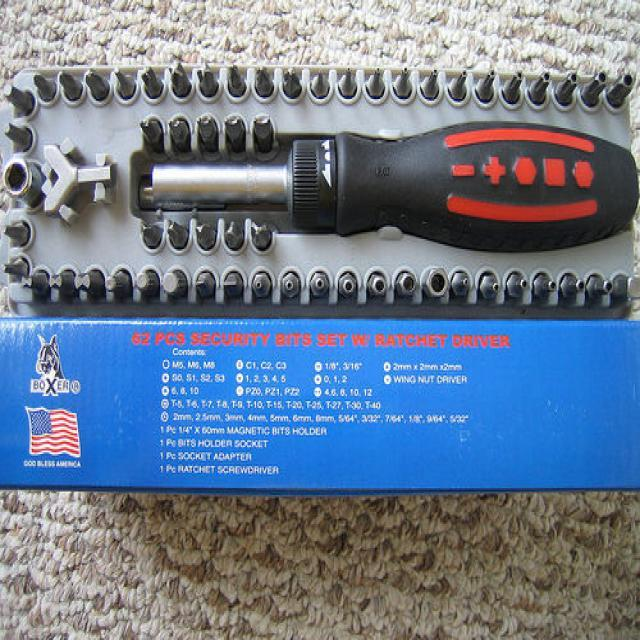screwdriver: (133, 126, 640, 254)
